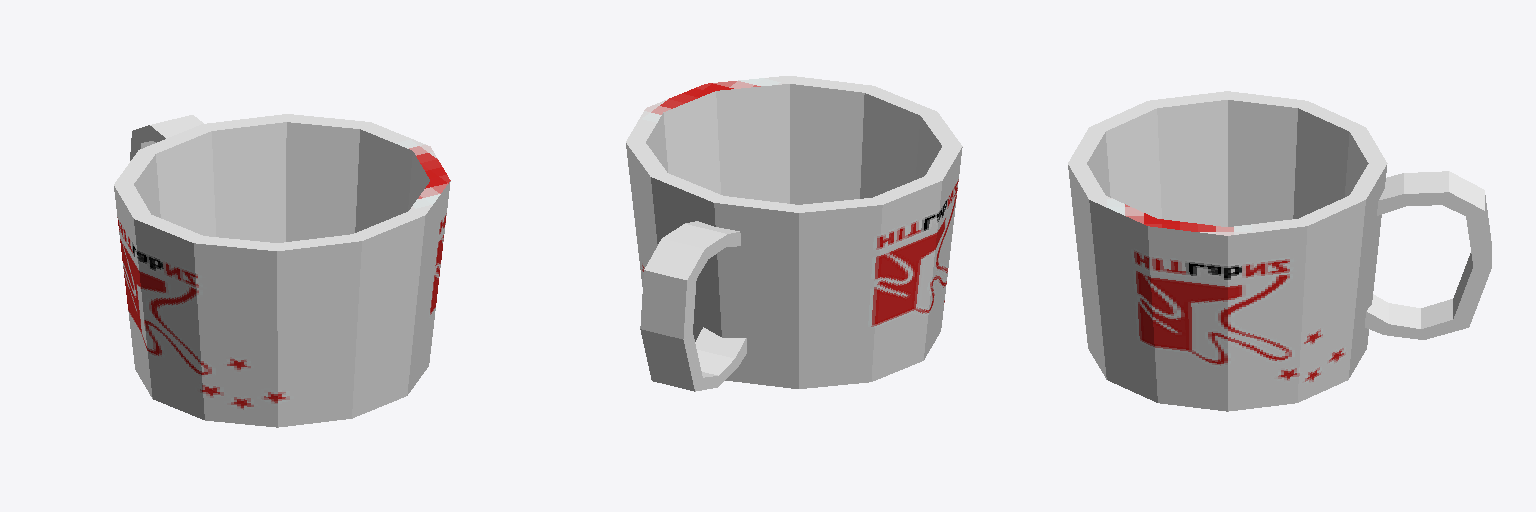
3 renders of one model, left to right at view 1: azimuth 30°, elevation 25°; view 2: azimuth 150°, elevation 25°; view 3: azimuth 270°, elevation 25°, orthographic.
Parts seen in each view (by area): view 1: coffee_cup; view 2: coffee_cup; view 3: coffee_cup.
Part boxes in pixels (left/top/right/bottom): coffee_cup: left=114, top=114, right=450, bottom=427; coffee_cup: left=626, top=76, right=962, bottom=391; coffee_cup: left=1068, top=91, right=1491, bottom=411.
Size of the model in its own units: 2.06 by 1.23 by 2.56.
Materials: 1 (1 with a texture image).